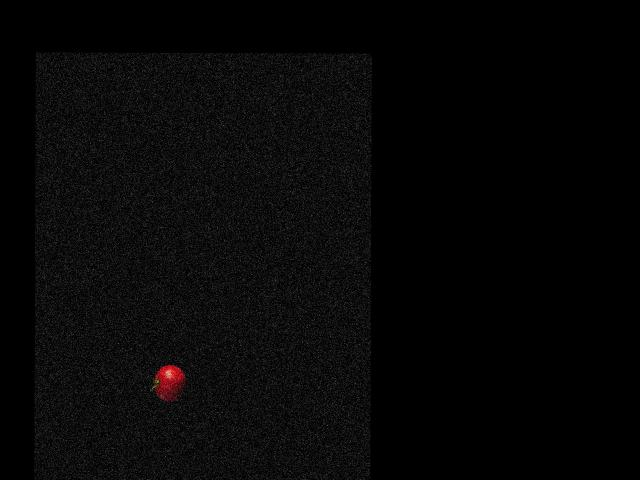tomato: (154, 365, 185, 401)
